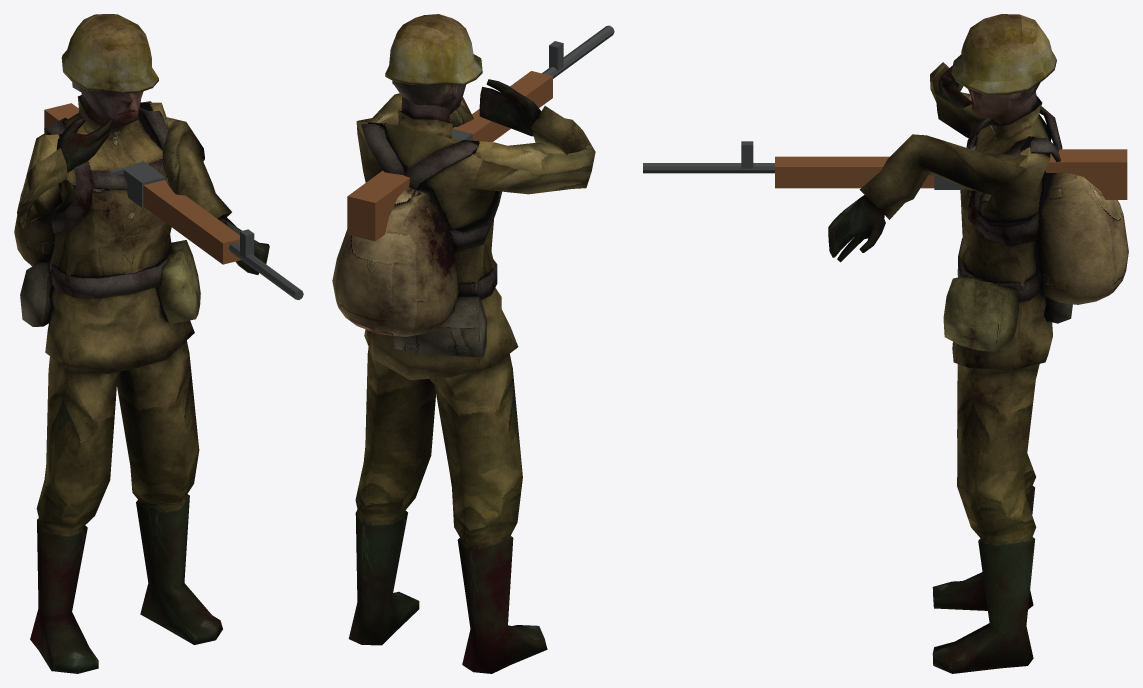
File: soviet_ww2_soldier_aim_00.glb
3 renders of one model, left to right at view 1: azimuth 30°, elevation 25°; view 2: azimuth 150°, elevation 25°; view 3: azimuth 270°, elevation 25°, orthographic. The views are drawn at different scales.
Visible parts, largest first — view 1: final_Static, SovietRifle_Generated; view 2: final_Static, SovietRifle_Generated; view 3: final_Static, SovietRifle_Generated.
Boxes of the visible parts, <box> form: final_Static: <box>14,14,269,673</box>; SovietRifle_Generated: <box>44,103,303,299</box>; final_Static: <box>332,14,595,673</box>; SovietRifle_Generated: <box>347,25,614,241</box>; final_Static: <box>828,14,1128,673</box>; SovietRifle_Generated: <box>643,141,1127,199</box>.
Size of the model in its own units: 0.6198 by 1.72 by 1.23.
3 materials, 1 textured.
